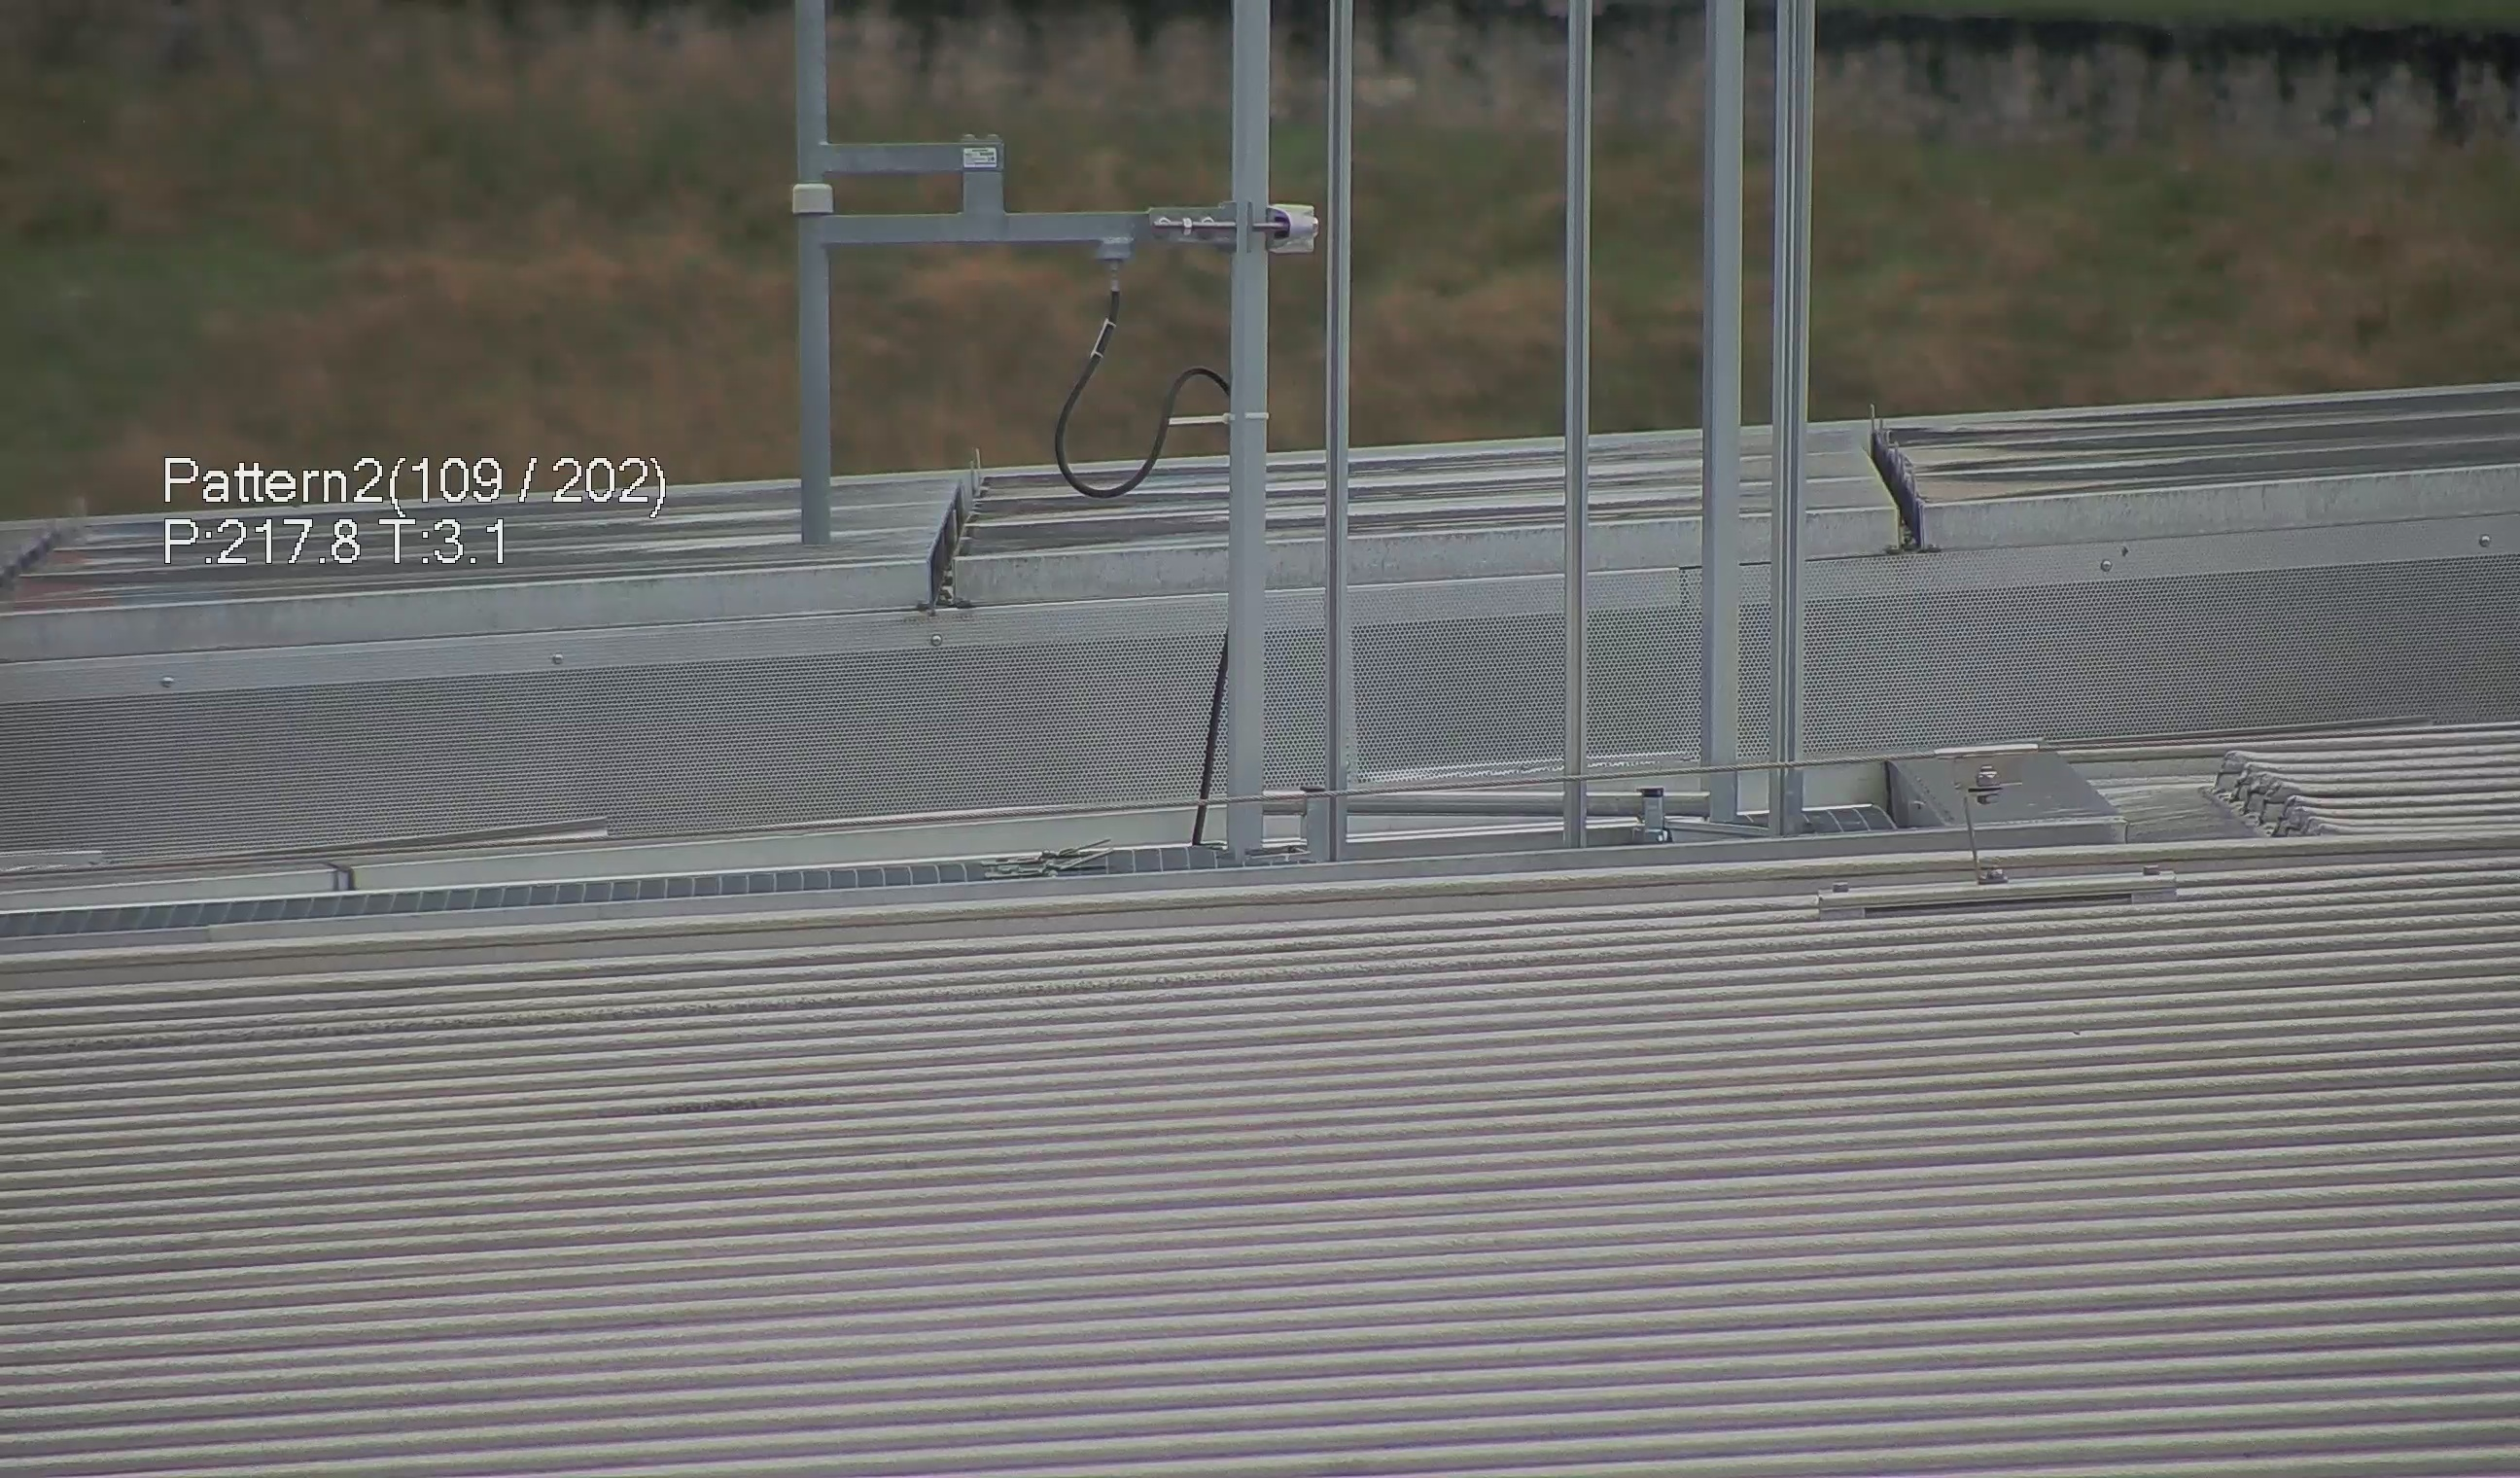Other: (1864, 412, 1956, 551)
